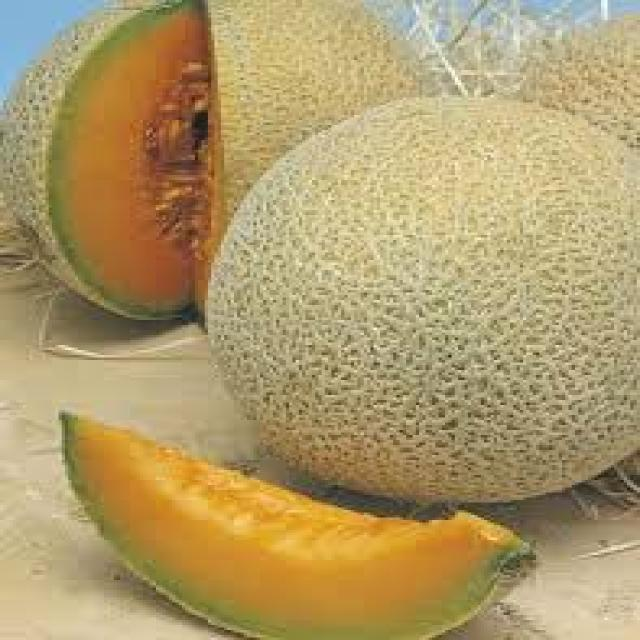cantaloupe: (210, 100, 640, 504), (2, 0, 410, 320), (62, 410, 538, 640)
